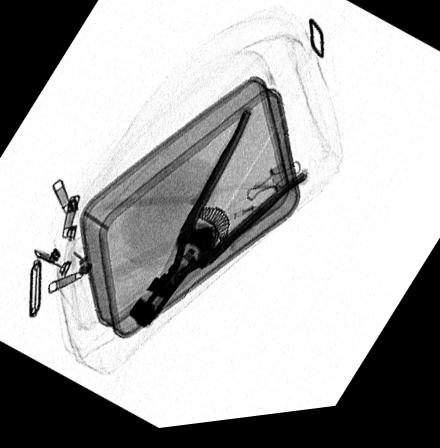Pliers: (126, 115, 306, 332)
